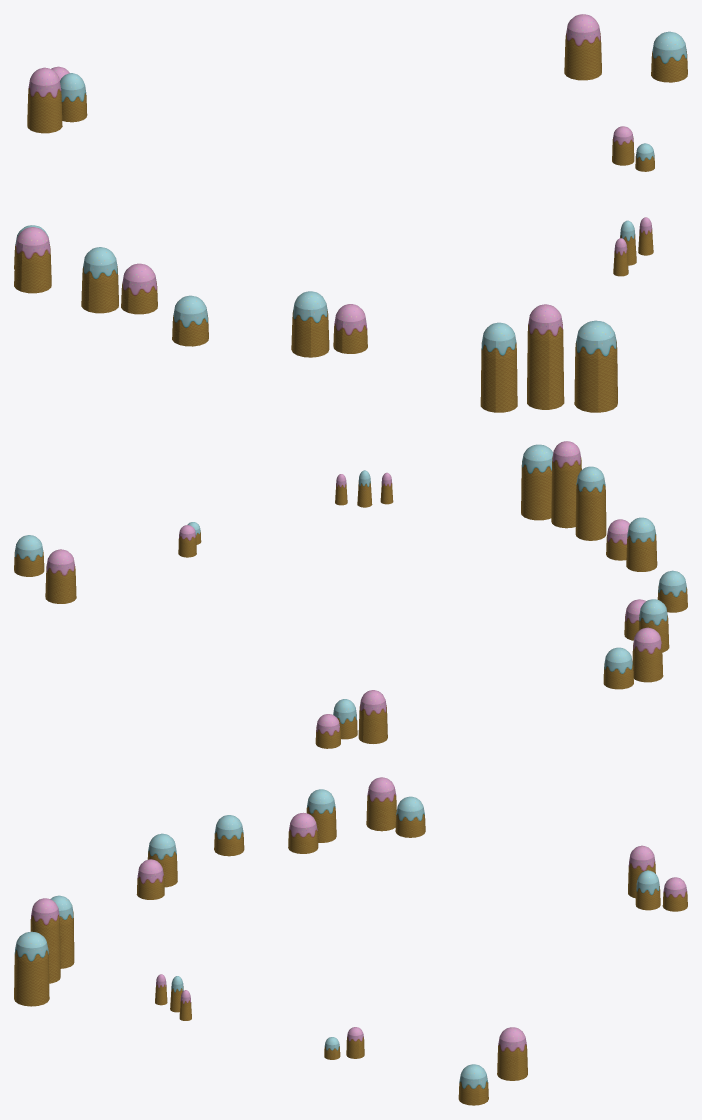
The model's file is waffle.fbx.
3 views of the same model, one above another, from view 1: azimuth 30°, elevation 25°; view 2: azimuth 150°, elevation 25°; view 3: azimuth 270°, elevation 25° (orthographic). The views are drawn at different scales.
Parts seen in each view (by area): view 1: Mtmario_blue_top01_1__ck_mount02b; view 2: Mtmario_blue_top01_1__ck_mount02b; view 3: Mtmario_blue_top01_1__ck_mount02b.
Boxes of the visible parts, left/top/right/bottom form: Mtmario_blue_top01_1__ck_mount02b: left=14, top=14, right=687, bottom=412; Mtmario_blue_top01_1__ck_mount02b: left=14, top=441, right=687, bottom=748; Mtmario_blue_top01_1__ck_mount02b: left=14, top=777, right=687, bottom=1105.
Size of the model in its own units: 379 by 375 by 50.89.
